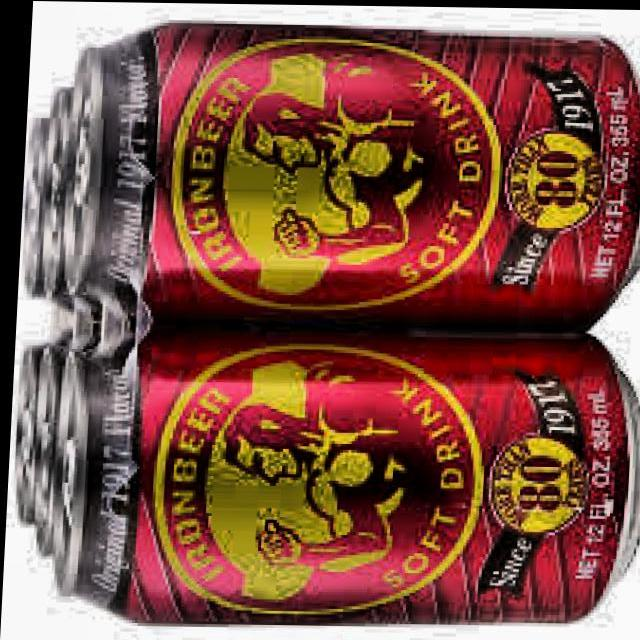litter: (42, 323, 640, 632), (50, 20, 640, 329), (27, 320, 83, 572), (36, 76, 91, 317), (14, 110, 56, 304), (5, 340, 44, 533)
